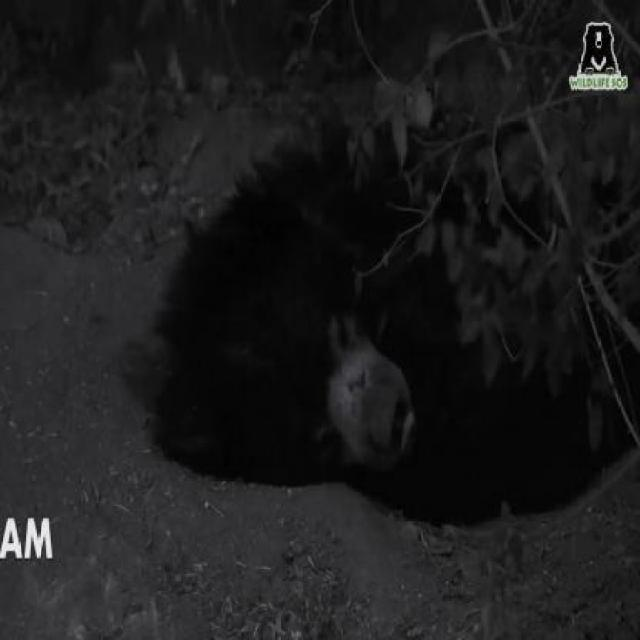Bear: (198, 185, 490, 526)
